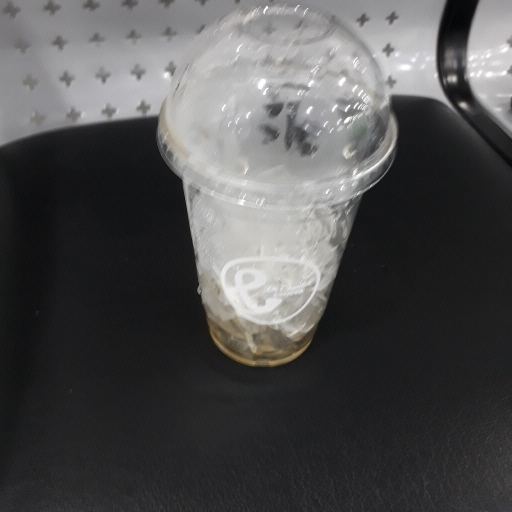Plastic_2: (155, 7, 396, 368)
